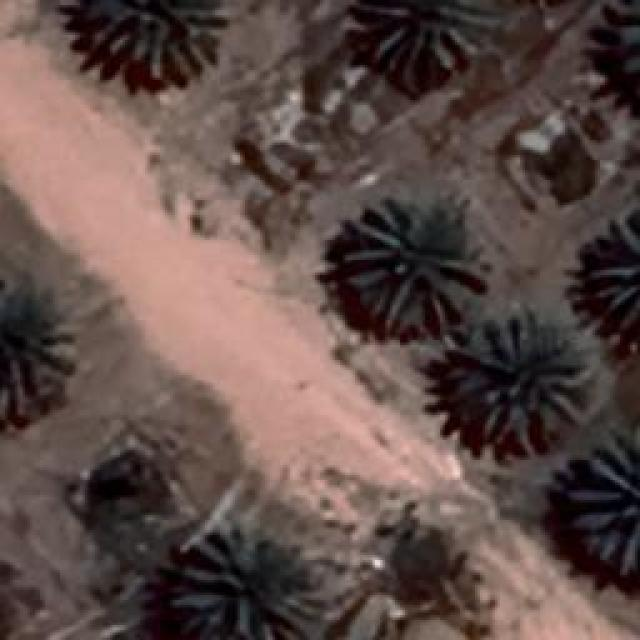PalmTree: (342, 198, 488, 338), (448, 312, 590, 452), (170, 528, 332, 638), (80, 0, 222, 80), (568, 430, 638, 575), (352, 0, 492, 72), (0, 272, 60, 420), (584, 210, 638, 325), (597, 0, 640, 125)
